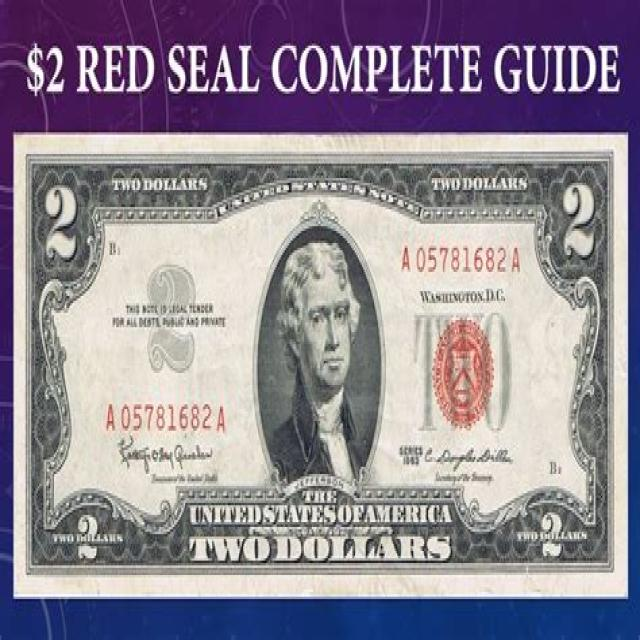Two: (15, 134, 628, 600)
